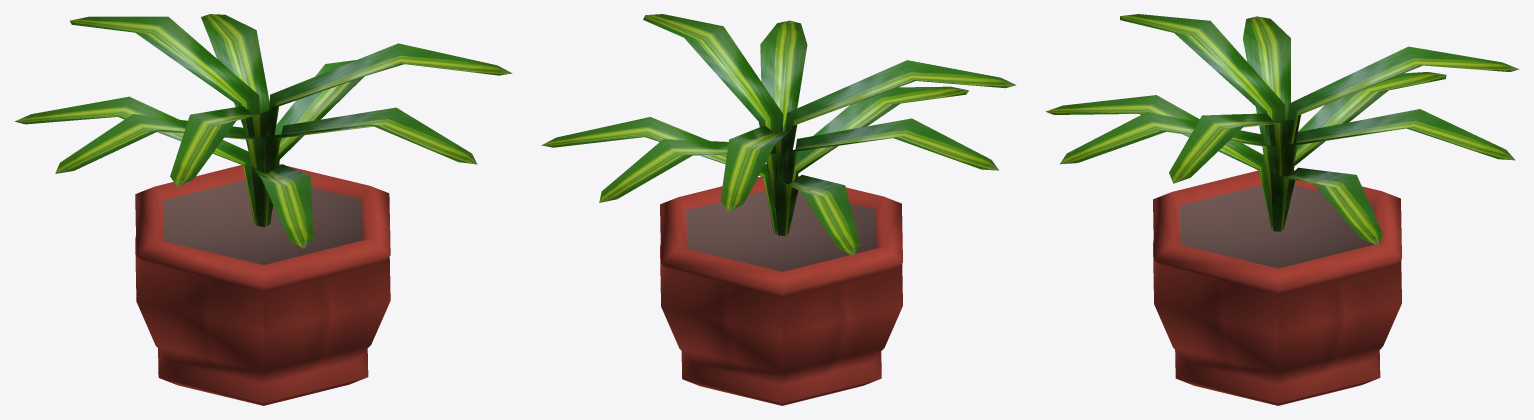
File: Pool_Plant_02.fbx
3 renders of one model, left to right at view 1: azimuth 30°, elevation 25°; view 2: azimuth 150°, elevation 25°; view 3: azimuth 270°, elevation 25°, orthographic. The views are drawn at different scales.
Visible parts, largest first — view 1: Pool_Plant_02; view 2: Pool_Plant_02; view 3: Pool_Plant_02.
Part boxes in pixels (bbox=[...]): Pool_Plant_02: bbox=[15, 14, 512, 405]; Pool_Plant_02: bbox=[541, 14, 1016, 405]; Pool_Plant_02: bbox=[1045, 14, 1519, 405].
Bounding box in the file's own units: 55.24 × 38.33 × 55.5.
1 material, 1 textured.
